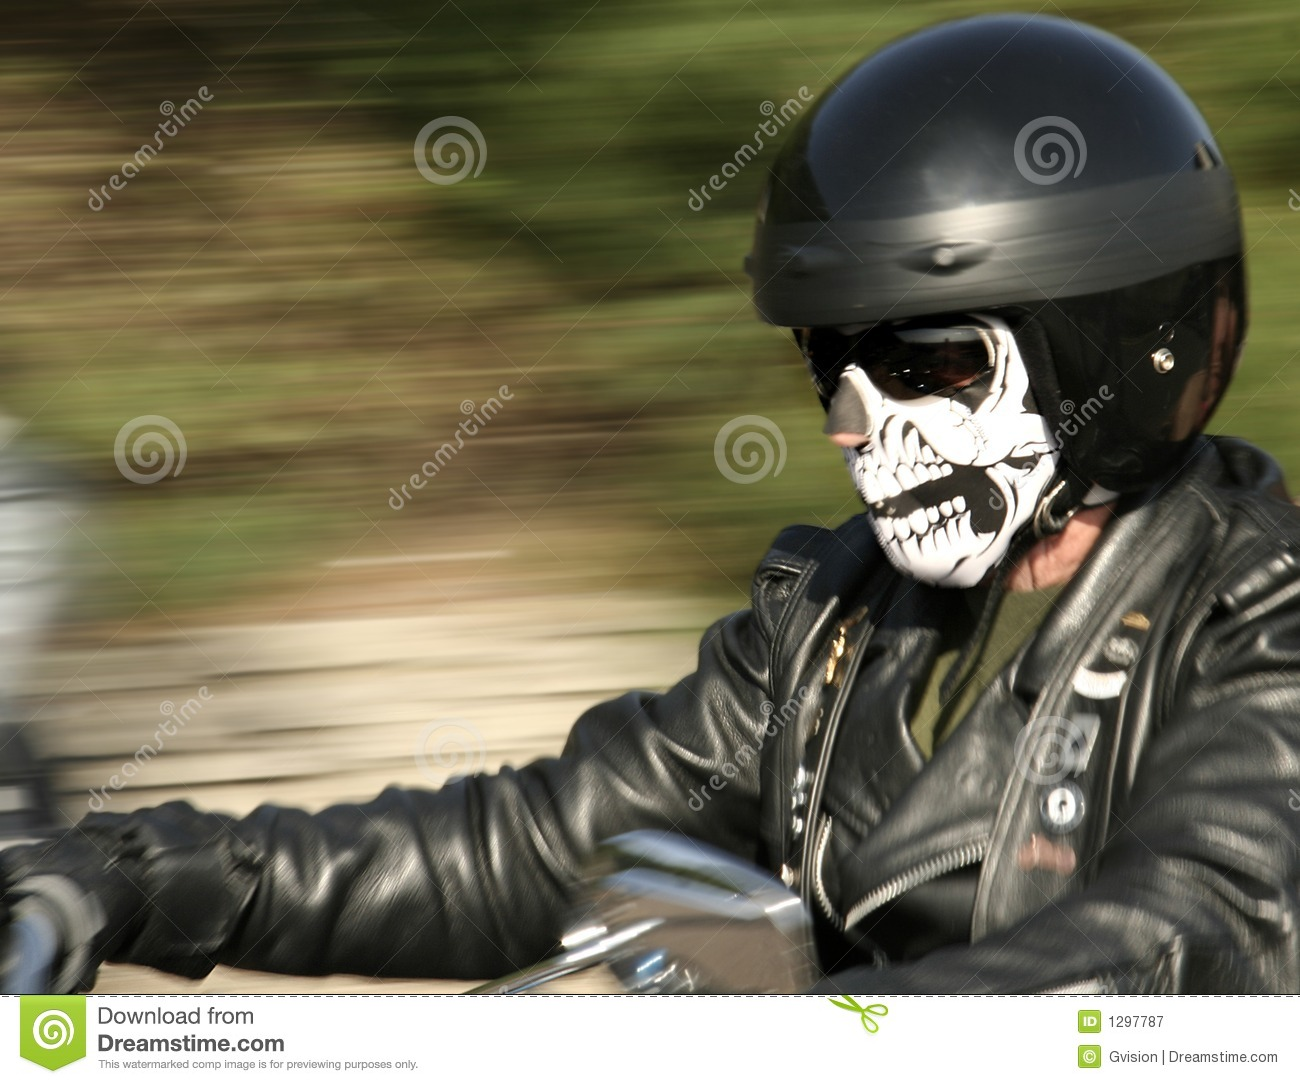helmet: (751, 46, 1255, 314)
